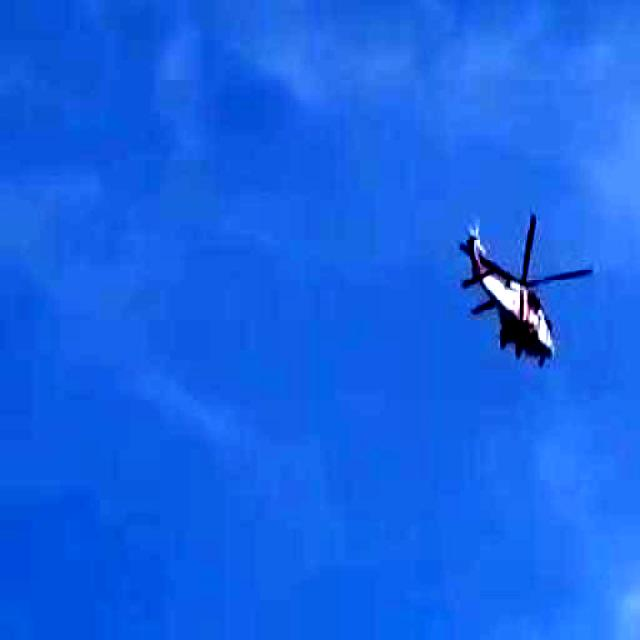drone: (434, 192, 610, 391)
